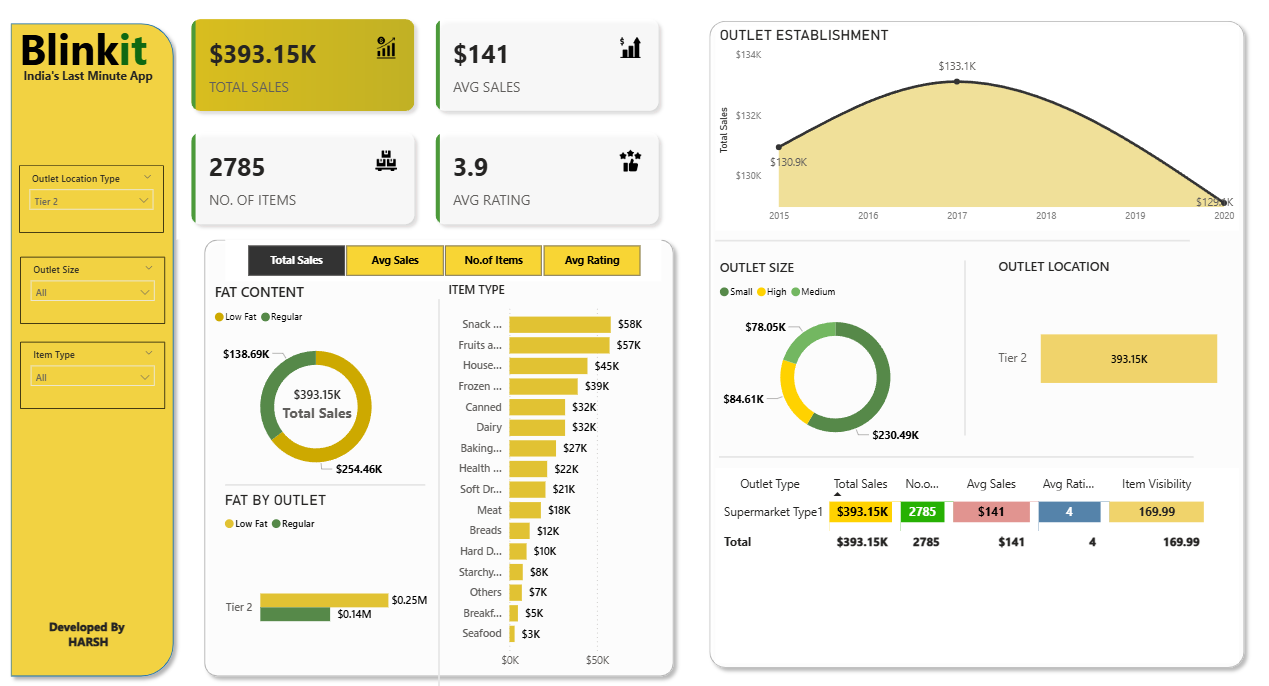

Layout of this report page (visuals, bound fields, positions):
{"tool":"powerbi","page":{"name":"Page 1","canvas":[1500,795],"ordinal":0},"visuals":[{"type":"shape","box":[10,20,204.3,764.3],"z":0},{"type":"textbox","box":[28.2,73.7,175.6,81.8],"z":1000},{"type":"textbox","box":[0,20.1,203.8,80.4],"z":2000},{"type":"cardVisual","fields":{"Data":["BlinkIT Grocery Data (2).Total Sales","BlinkIT Grocery Data (2).Avg Sales","BlinkIT Grocery Data (2).No.of Items","BlinkIT Grocery Data (2).Avg Rating"]},"box":[208.6,7.1,568.6,268.6],"z":3000},{"type":"shape","box":[231.4,267.1,554.3,517.1],"z":4000},{"type":"donutChart","title":"FAT CONTENT","fields":{"Y":["BlinkIT Grocery Data (2).Total Sales"],"Category":["BlinkIT Grocery Data (2).Item Fat Content"]},"box":[247.3,324.3,241.9,236.5],"z":5000},{"type":"slicer","fields":{"Values":["Metrics.Metrics"]},"box":[264.1,276.1,498.7,48.3],"z":6000},{"type":"cardVisual","fields":{"Data":["BlinkIT Grocery Data (2).Total Sales"]},"box":[305.7,410,127.1,108.6],"z":7000},{"type":"clusteredBarChart","title":"FAT BY OUTLET","fields":{"Category":["BlinkIT Grocery Data (2).Outlet Location Type"],"Y":["BlinkIT Grocery Data (2).Total Sales"],"Series":["BlinkIT Grocery Data (2).Item Fat Content"]},"box":[258.6,562.9,241.4,214.3],"z":8000},{"type":"shape","box":[264.3,508.6,228.6,95.7],"z":9000},{"type":"shape","box":[394.3,344.3,228.6,451.4],"z":10000},{"type":"barChart","title":"ITEM TYPE","fields":{"Y":["BlinkIT Grocery Data (2).Total Sales"],"Category":["BlinkIT Grocery Data (2).Item Type"]},"box":[513.6,324.7,249.4,450.6],"z":11000},{"type":"shape","box":[808,17.3,629.3,757.3],"z":12000},{"type":"lineChart","title":"OUTLET ESTABLISHMENT","fields":{"Y":["BlinkIT Grocery Data (2).Total Sales"],"Category":["BlinkIT Grocery Data (2).Outlet Establishment Year"]},"box":[824,32,598.7,234.7],"z":13000},{"type":"shape","box":[824,230.7,542.7,94.7],"z":14000},{"type":"donutChart","title":"OUTLET SIZE","fields":{"Y":["BlinkIT Grocery Data (2).Total Sales"],"Category":["BlinkIT Grocery Data (2).Outlet Size"]},"box":[824,297.3,275,225],"z":15000},{"type":"shape","box":[996,300,228,200],"z":16000},{"type":"funnel","title":"OUTLET LOCATION","fields":{"Y":["Sum(BlinkIT Grocery Data (2).Sales)"],"Category":["BlinkIT Grocery Data (2).Outlet Location Type"]},"box":[1142.7,296,265.3,213.3],"z":17000},{"type":"pivotTable","fields":{"Rows":["BlinkIT Grocery Data (2).Outlet Type"],"Values":["BlinkIT Grocery Data (2).Total Sales","BlinkIT Grocery Data (2).No.of Items","BlinkIT Grocery Data (2).Avg Sales","BlinkIT Grocery Data (2).Avg Rating","Sum(BlinkIT Grocery Data (2).Item Visibility)"]},"box":[824.3,537.1,598.6,222.9],"z":18000},{"type":"shape","box":[828,477.3,542.7,94.7],"z":19000},{"type":"slicer","fields":{"Values":["BlinkIT Grocery Data (2).Outlet Location Type"]},"box":[28.6,191.4,165.7,77.1],"z":20000},{"type":"slicer","fields":{"Values":["BlinkIT Grocery Data (2).Outlet Size"]},"box":[30,295.7,165.7,77.1],"z":21000},{"type":"slicer","fields":{"Values":["BlinkIT Grocery Data (2).Item Type"]},"box":[30,392.9,165.7,77.1],"z":22000},{"type":"textbox","box":[28.6,704.3,158.6,55.7],"z":22001}]}

Visuals, with their boxes in screenshot pixels (x1, y1, x2, y2), scaled from the page's 1500x795 canvas onto the 1269x686 screenshot:
shape: l=8, t=17, r=181, b=677
textbox: l=24, t=64, r=172, b=134
textbox: l=0, t=17, r=172, b=87
cardVisual - BlinkIT Grocery Data (2).Total Sales x BlinkIT Grocery Data (2).Avg Sales: l=176, t=6, r=658, b=238
shape: l=196, t=230, r=665, b=677
"FAT CONTENT" donutChart: l=209, t=280, r=414, b=484
slicer - Metrics.Metrics: l=223, t=238, r=645, b=280
cardVisual - BlinkIT Grocery Data (2).Total Sales: l=259, t=354, r=366, b=447
"FAT BY OUTLET" clusteredBarChart: l=219, t=486, r=423, b=671
shape: l=224, t=439, r=417, b=521
shape: l=334, t=297, r=527, b=685
"ITEM TYPE" barChart: l=435, t=280, r=645, b=669
shape: l=684, t=15, r=1216, b=668
"OUTLET ESTABLISHMENT" lineChart: l=697, t=28, r=1204, b=230
shape: l=697, t=199, r=1156, b=281
"OUTLET SIZE" donutChart: l=697, t=257, r=930, b=451
shape: l=843, t=259, r=1036, b=431
"OUTLET LOCATION" funnel: l=967, t=255, r=1191, b=439
pivotTable - BlinkIT Grocery Data (2).Outlet Type x BlinkIT Grocery Data (2).Total Sales: l=697, t=463, r=1204, b=656
shape: l=700, t=412, r=1160, b=494
slicer - BlinkIT Grocery Data (2).Outlet Location Type: l=24, t=165, r=164, b=232
slicer - BlinkIT Grocery Data (2).Outlet Size: l=25, t=255, r=166, b=322
slicer - BlinkIT Grocery Data (2).Item Type: l=25, t=339, r=166, b=406
textbox: l=24, t=608, r=158, b=656
